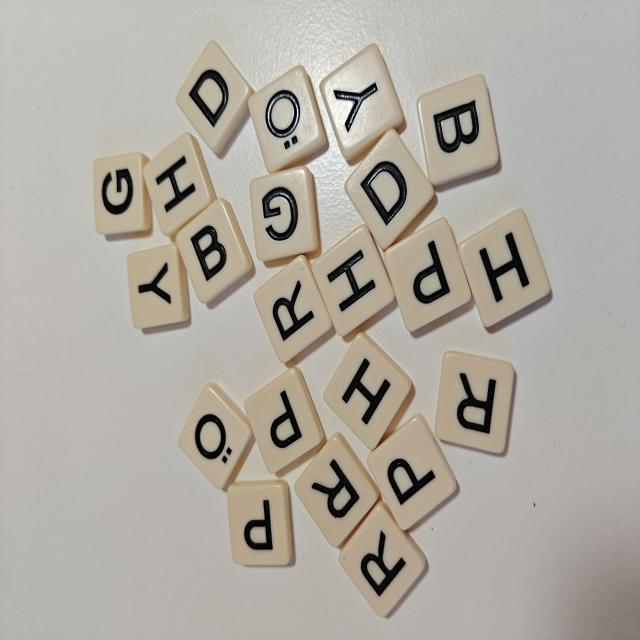b: (417, 75, 498, 185), (176, 199, 252, 302)
d: (345, 129, 433, 250), (176, 41, 254, 154)
g: (250, 166, 318, 261), (94, 153, 152, 235)
h: (458, 209, 550, 327), (324, 332, 411, 449), (312, 224, 394, 336), (143, 133, 216, 236)
o_dot: (248, 65, 326, 173), (178, 383, 252, 488)
p: (368, 414, 456, 530), (384, 218, 471, 331), (245, 368, 324, 472), (227, 480, 292, 565)
r: (339, 501, 425, 616), (294, 432, 378, 547), (254, 256, 332, 363), (435, 350, 514, 453)
y: (320, 44, 402, 160), (128, 244, 190, 329)
